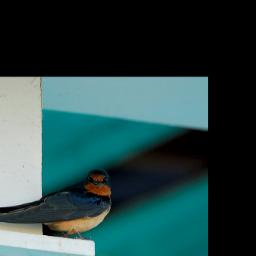Swallow: (0, 165, 116, 239)
